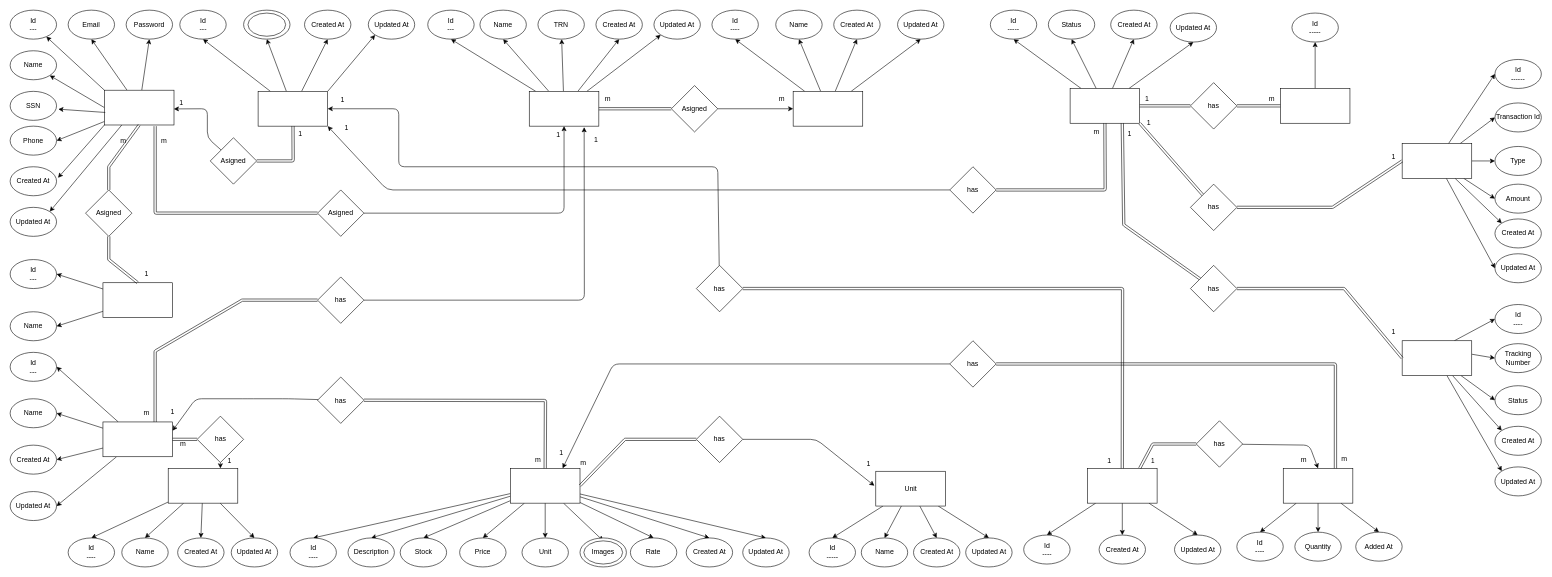
This 1552x577 diagram has some shape labels left out. The box of each missing label's shape, as (x1, y1, x2, y2) in pixels:
Addresses: (247, 12, 286, 36)
Category: (168, 468, 238, 503)
Company: (529, 91, 599, 126)
Customer: (258, 91, 328, 126)
Order: (1070, 88, 1140, 123)
Order Details: (1280, 88, 1350, 123)
Payment: (1402, 143, 1472, 178)
Platform: (793, 91, 863, 126)
Product: (102, 421, 173, 457)
Product Unit: (510, 468, 580, 503)
Role: (102, 282, 173, 318)
Shipment: (1402, 340, 1472, 376)
Shopping Cart: (1087, 468, 1157, 503)
Shopping Cart Item: (1283, 468, 1353, 503)
User: (104, 90, 174, 125)
